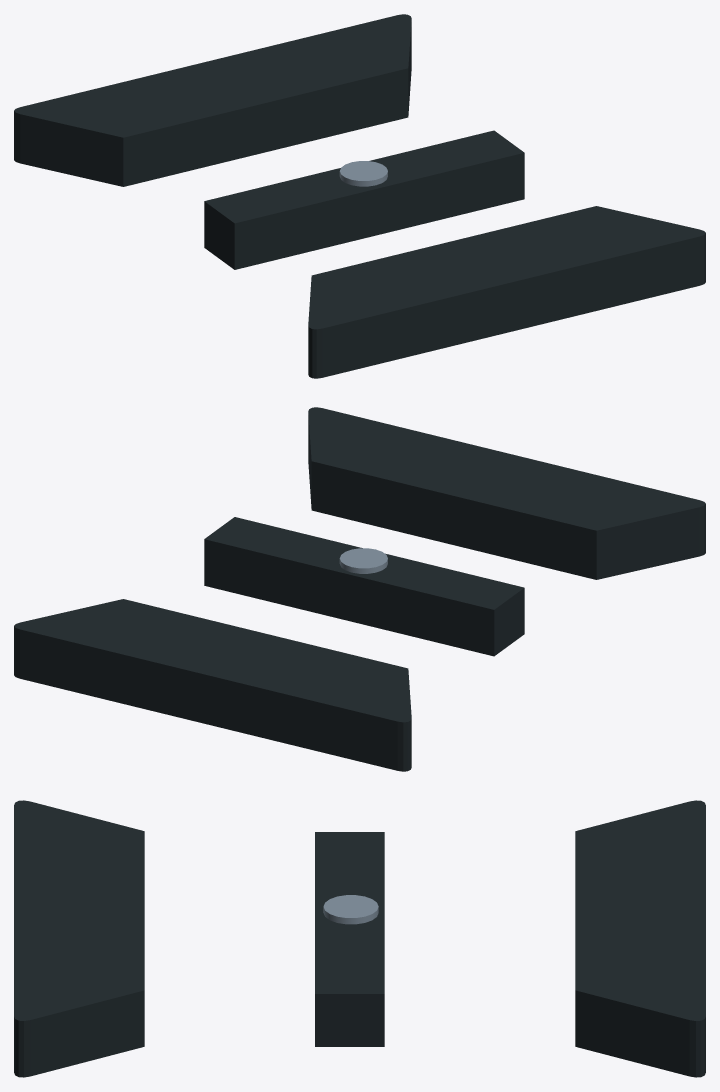
The model's file is koyu_2.fbx.
3 views of the same model, one above another, from view 1: azimuth 30°, elevation 25°; view 2: azimuth 150°, elevation 25°; view 3: azimuth 270°, elevation 25° (orthographic). The views are drawn at different scales.
Parts seen in each view (by area): view 1: Cube, Cube.002, Cube.001, Cylinder; view 2: Cube, Cube.002, Cube.001, Cylinder; view 3: Cube, Cube.002, Cube.001, Cylinder.
Part boxes in pixels (<box>): Cube: <box>308,206,705,378</box>; Cube.002: <box>14,14,411,186</box>; Cube.001: <box>204,130,524,269</box>; Cylinder: <box>339,161,387,186</box>; Cube: <box>308,407,705,579</box>; Cube.002: <box>14,599,411,771</box>; Cube.001: <box>204,517,524,656</box>; Cylinder: <box>339,548,387,573</box>; Cube: <box>14,800,144,1077</box>; Cube.002: <box>575,800,705,1077</box>; Cube.001: <box>315,832,384,1046</box>; Cylinder: <box>323,895,378,924</box>.
Size of the model in its own units: 609 by 77.95 by 807.
